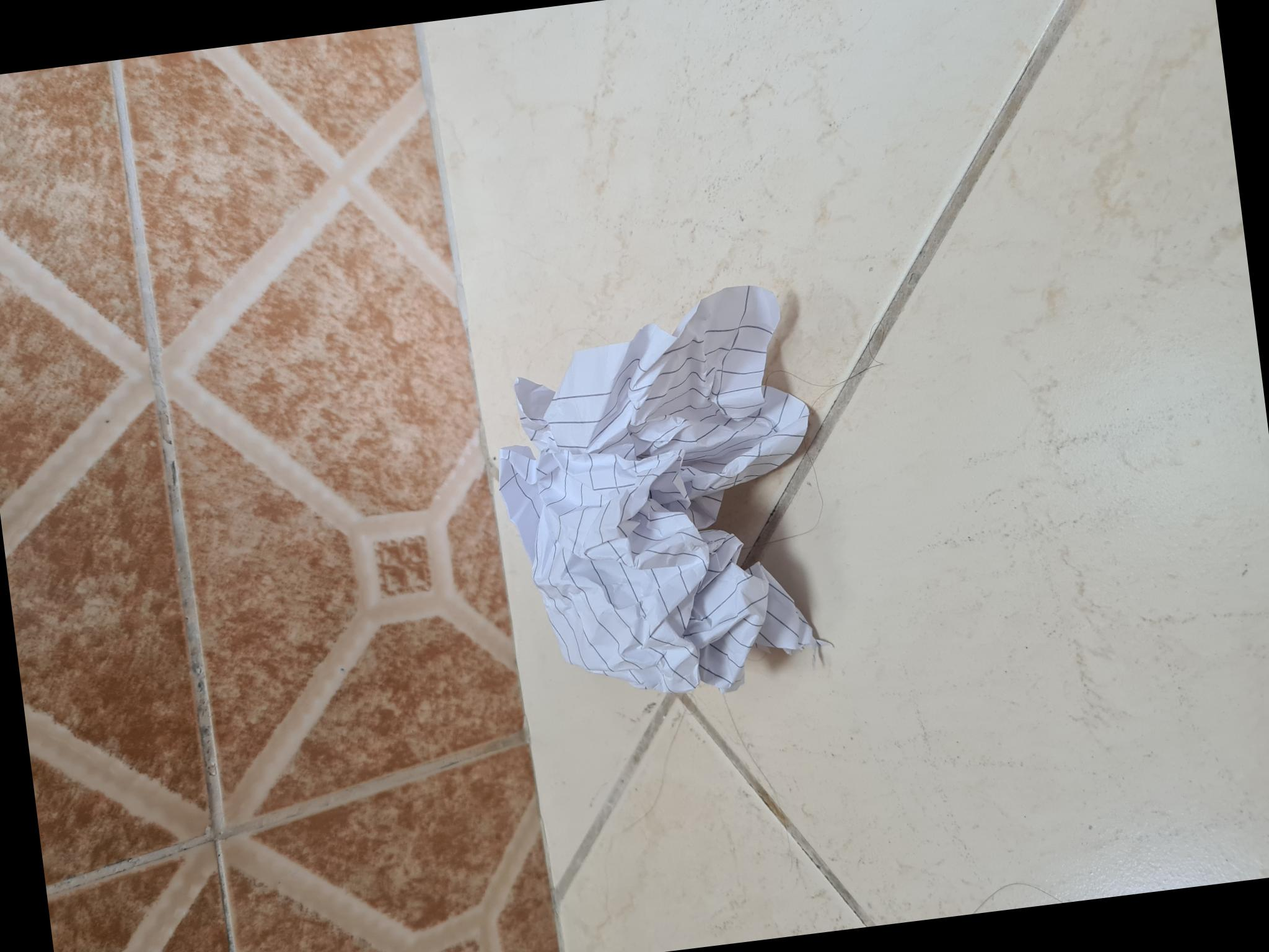Kertas: (280, 517, 686, 836)
